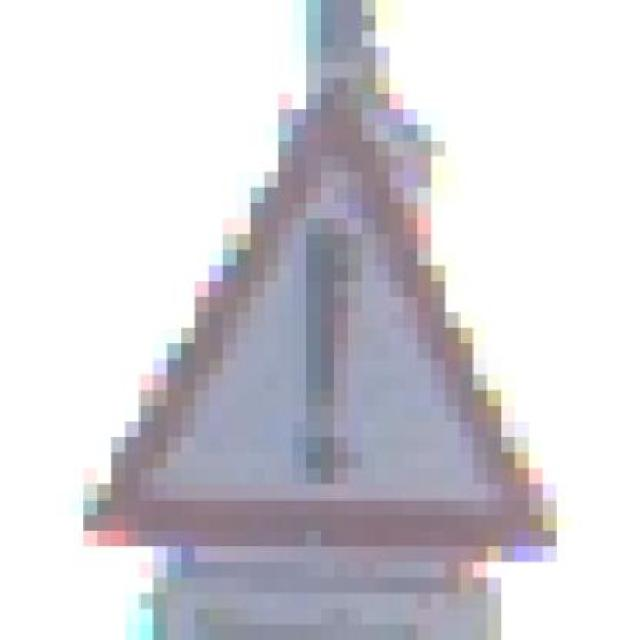Attention Please-: (69, 78, 557, 578)
